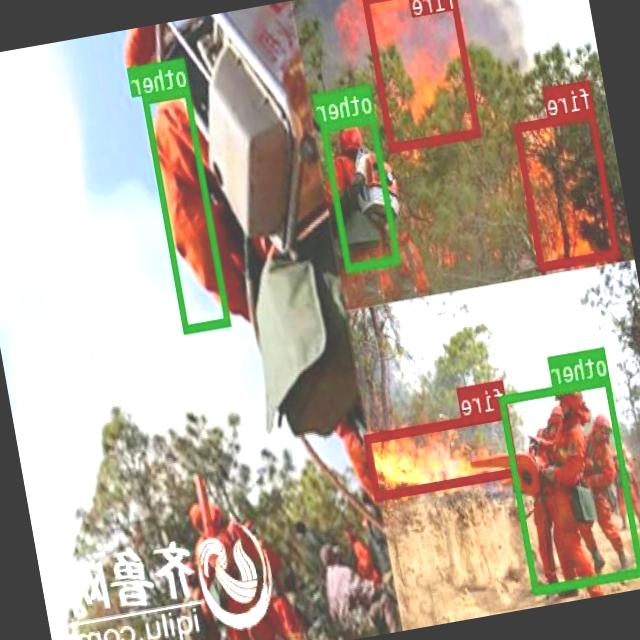fire: (363, 0, 481, 149), (514, 109, 620, 268), (365, 409, 520, 498)
